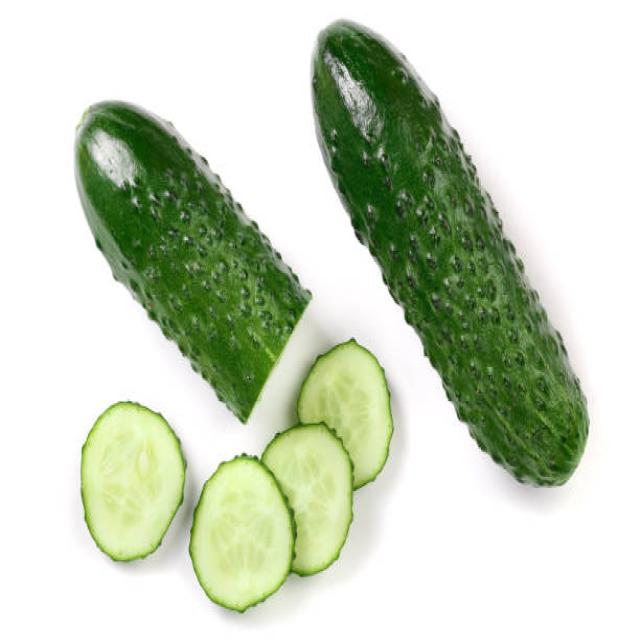cucumber: (311, 16, 591, 492), (75, 98, 314, 426)
